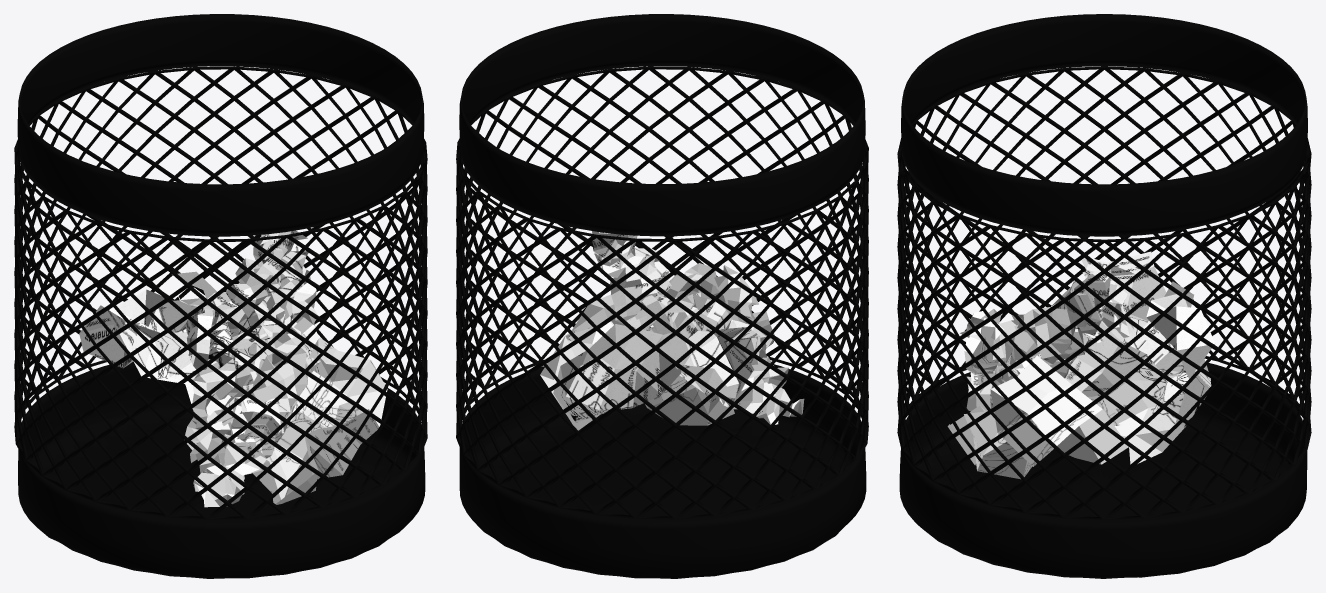
File: poubelle_araignée.fbx
3 views of the same model, side by side, from view 1: azimuth 30°, elevation 25°; view 2: azimuth 150°, elevation 25°; view 3: azimuth 270°, elevation 25° (orthographic).
Parts seen in each view (by area): view 1: Cylinder, Plane.003, Plane.002; view 2: Cylinder, Plane.002, Plane.003; view 3: Cylinder, Plane.002, Plane.003.
Boxes of the visible parts, x1=… form: Cylinder: x1=14, y1=14, x2=427, y2=578; Plane.003: x1=178, y1=230, x2=320, y2=507; Plane.002: x1=79, y1=271, x2=387, y2=504; Cylinder: x1=456, y1=14, x2=868, y2=578; Plane.002: x1=540, y1=294, x2=760, y2=430; Plane.003: x1=592, y1=231, x2=804, y2=424; Cylinder: x1=897, y1=14, x2=1311, y2=578; Plane.002: x1=947, y1=251, x2=1215, y2=479; Plane.003: x1=960, y1=258, x2=1134, y2=411.
Size of the model in its own units: 30 by 31.7 by 30.
